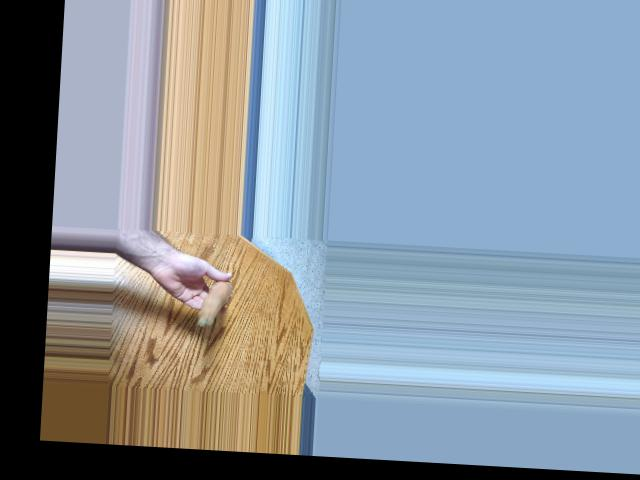sweet_potato: (194, 275, 232, 328)
